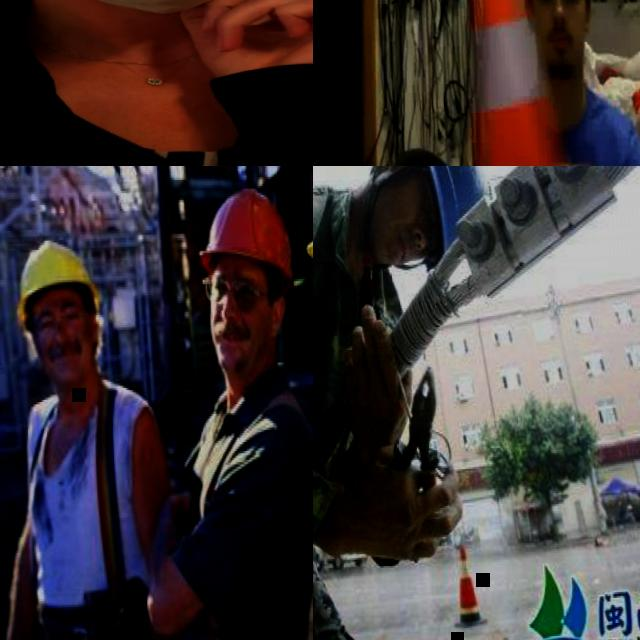Hardhat: (194, 183, 296, 295), (391, 166, 485, 269), (9, 236, 98, 316)
NO-Mask: (206, 318, 269, 372), (370, 183, 411, 264), (38, 336, 96, 384), (543, 30, 580, 74)
NO-Safety Vest: (0, 0, 313, 166), (313, 167, 406, 633), (165, 396, 313, 640), (22, 386, 148, 612), (554, 103, 625, 166)
Person: (313, 166, 504, 640), (131, 184, 313, 640), (0, 233, 179, 640), (0, 0, 313, 166), (424, 0, 640, 166)
Safety Cone: (431, 0, 603, 166), (449, 540, 485, 629)
vehicle: (313, 534, 367, 570)
